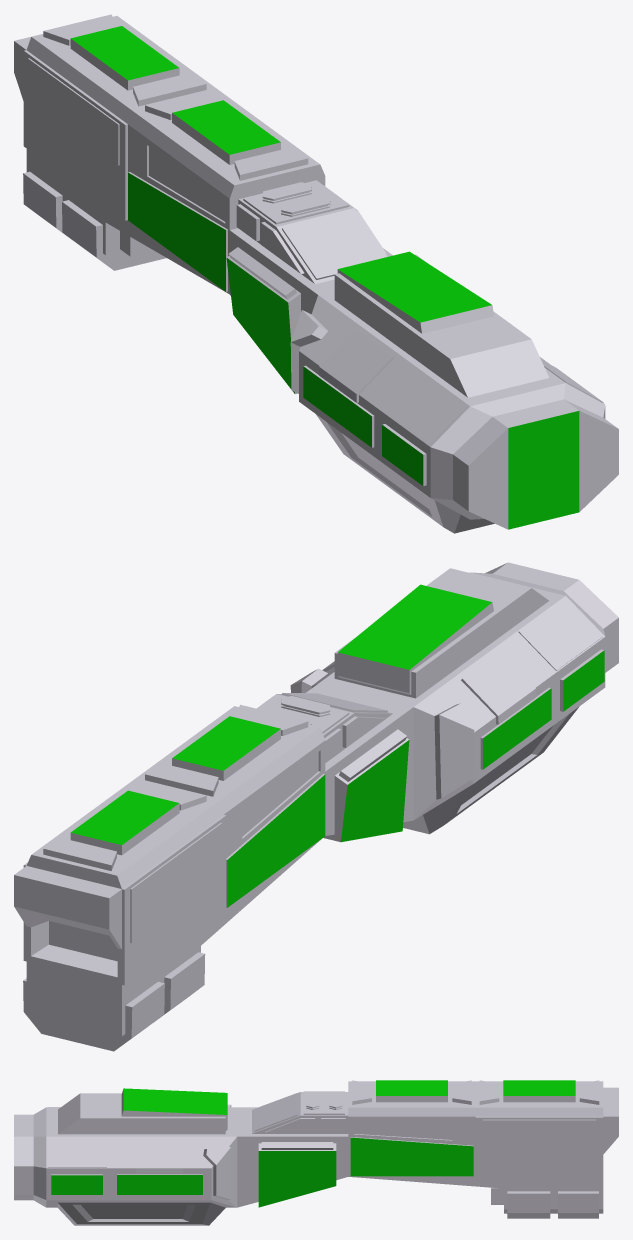
File: hull.beard.fbx
3 renders of one model, top to bottom at view 1: azimuth 30°, elevation 25°; view 2: azimuth 150°, elevation 25°; view 3: azimuth 270°, elevation 25°, orthographic. The views are drawn at different scales.
Visible parts, largest first — view 1: hull.beard; view 2: hull.beard; view 3: hull.beard.
Boxes of the visible parts, x1,y1,x2,y2 form: hull.beard: (14,14,618,533); hull.beard: (14,562,618,1051); hull.beard: (14,1080,618,1225).
Bounding box in the file's own units: 4.21 × 4.37 × 19.17.
